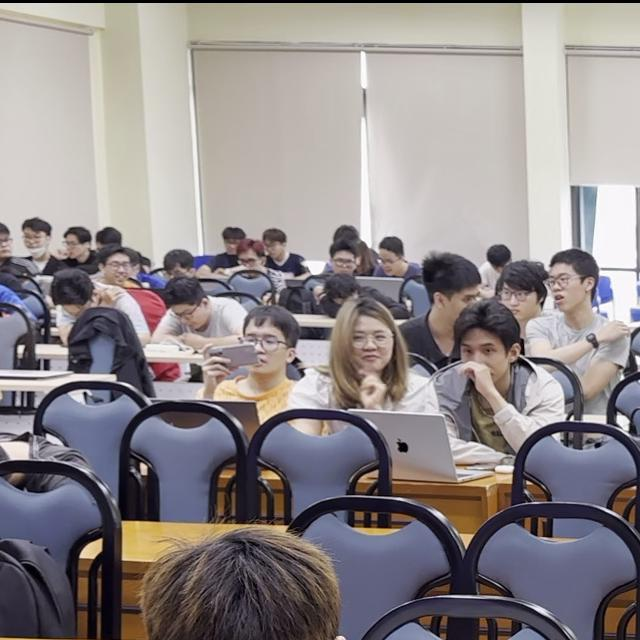Looking away: (548, 264, 588, 314)
Looking forward: (349, 315, 396, 373), (459, 332, 507, 385)
Phone use: (202, 304, 323, 440)
